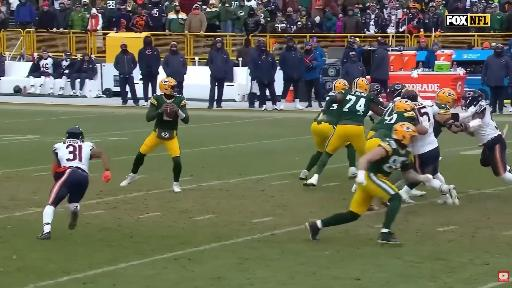Helmet: (392, 123, 417, 145), (462, 90, 484, 109), (436, 88, 456, 107), (159, 78, 177, 94), (66, 126, 84, 141), (388, 83, 405, 98), (353, 78, 369, 93), (401, 88, 418, 102), (395, 99, 414, 111), (369, 83, 383, 98), (333, 79, 348, 92), (348, 38, 356, 47), (64, 51, 72, 59)
Jersey: (410, 101, 450, 154), (367, 139, 410, 177), (54, 139, 94, 173), (337, 90, 375, 125), (372, 111, 417, 137), (371, 106, 417, 131), (474, 101, 500, 144), (371, 104, 394, 131), (323, 92, 340, 125), (151, 95, 186, 109), (39, 57, 53, 73), (434, 119, 445, 138), (434, 120, 444, 138)
Player: (306, 123, 432, 243), (304, 78, 383, 186), (38, 127, 110, 239), (121, 78, 189, 192), (462, 91, 511, 184), (367, 89, 428, 145), (411, 101, 450, 185), (300, 110, 337, 179), (28, 50, 58, 94), (55, 51, 76, 94), (434, 113, 462, 138), (346, 144, 357, 179), (369, 83, 386, 104), (388, 83, 406, 99)
